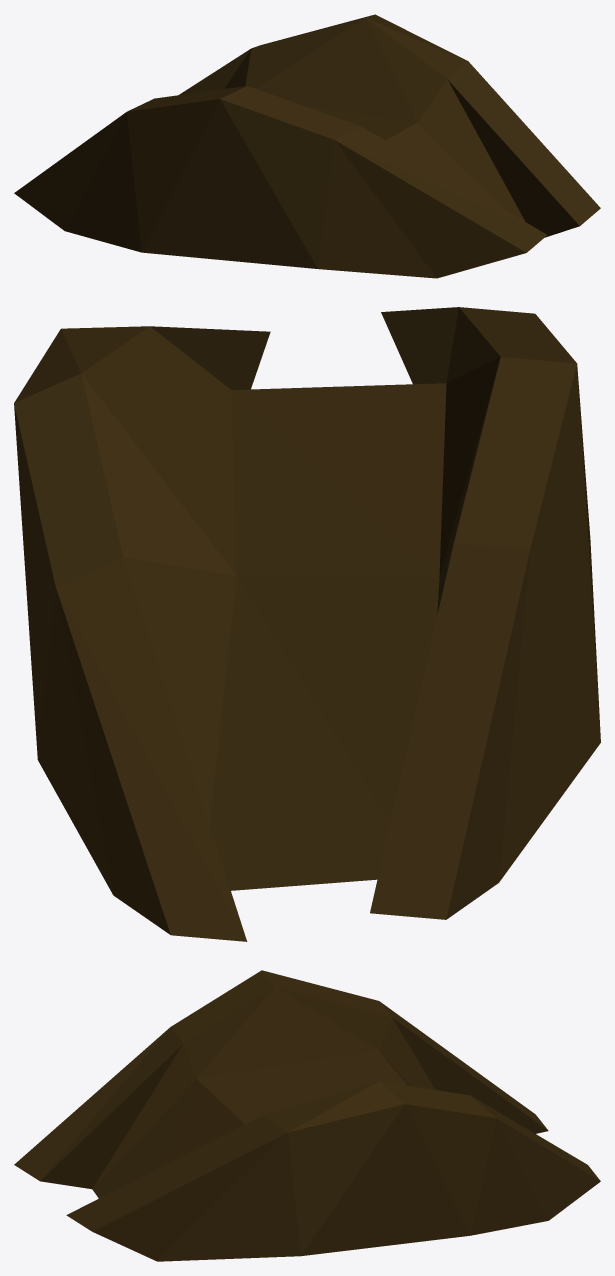
The model's file is model_36_npc_head.obj.
3 renders of one model, top to bottom at view 1: azimuth 30°, elevation 25°; view 2: azimuth 150°, elevation 25°; view 3: azimuth 270°, elevation 25°, orthographic. The views are drawn at different scales.
Parts seen in each view (by area): view 1: 36; view 2: 36; view 3: 36.
Boxes of the visible parts, x1,y1,x2,y2 form: 36: (14,14,600,278); 36: (14,307,600,941); 36: (14,970,600,1261).
Size of the model in its own units: 128 by 68 by 180.
